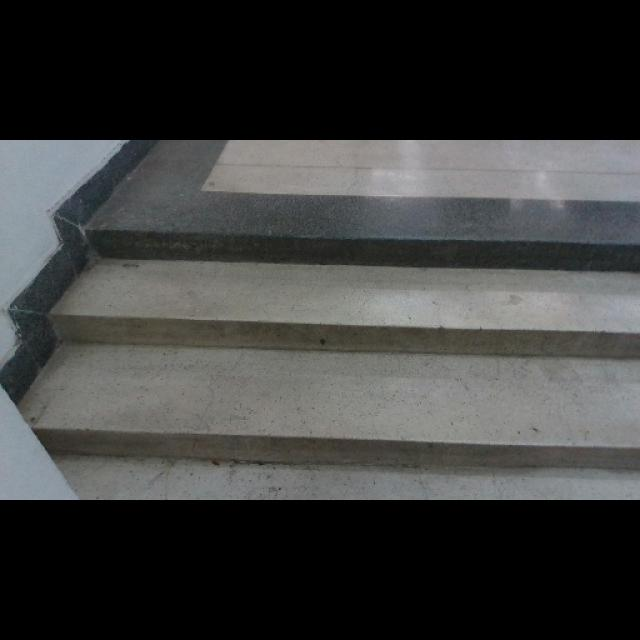Stairs: (12, 139, 638, 499)
